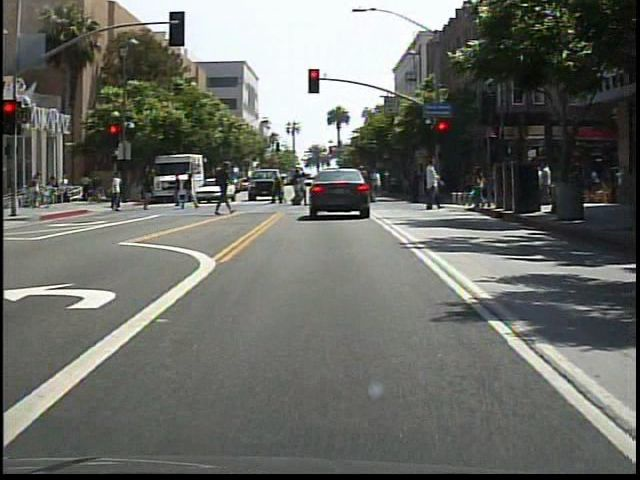person: (418, 157, 448, 213), (210, 161, 237, 218), (334, 167, 356, 216), (109, 171, 128, 217), (180, 171, 201, 212), (260, 170, 276, 207), (170, 171, 184, 212)
